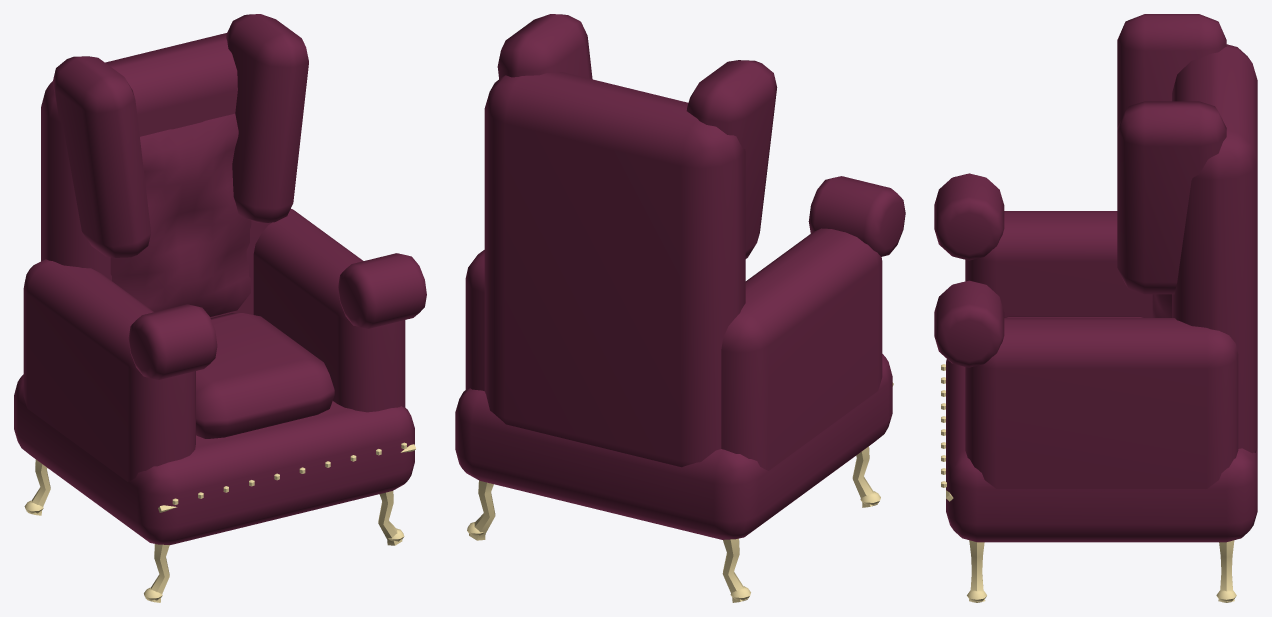
Rendered from armchair_velvet_wing.glb.
3 views of the same model, side by side, from view 1: azimuth 30°, elevation 25°; view 2: azimuth 150°, elevation 25°; view 3: azimuth 270°, elevation 25° (orthographic). The views are drawn at different scales.
Parts seen in each view (by area): view 1: armchair_velvet_wing; view 2: armchair_velvet_wing; view 3: armchair_velvet_wing.
Part boxes in pixels (left/top/right/bottom): armchair_velvet_wing: left=14, top=14, right=426, bottom=602; armchair_velvet_wing: left=455, top=14, right=905, bottom=602; armchair_velvet_wing: left=934, top=14, right=1257, bottom=602.
Size of the model in its own units: 0.85 by 1.36 by 0.83.
